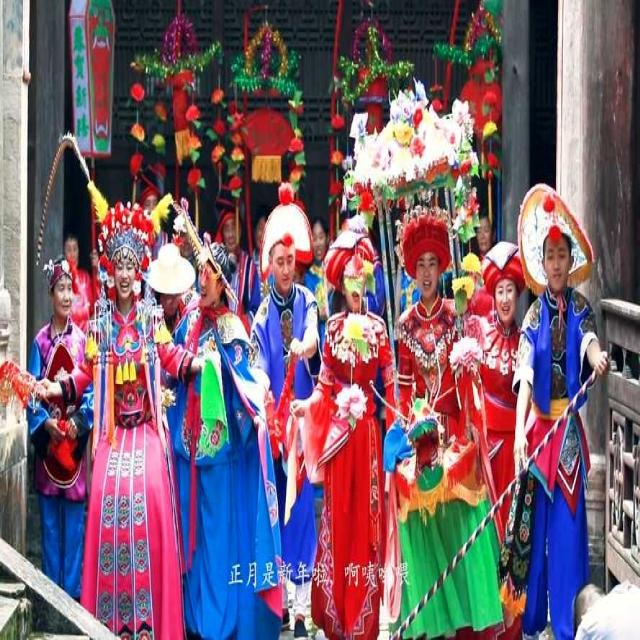Reeves-s Pheasant: (37, 133, 80, 259), (77, 157, 109, 221)
